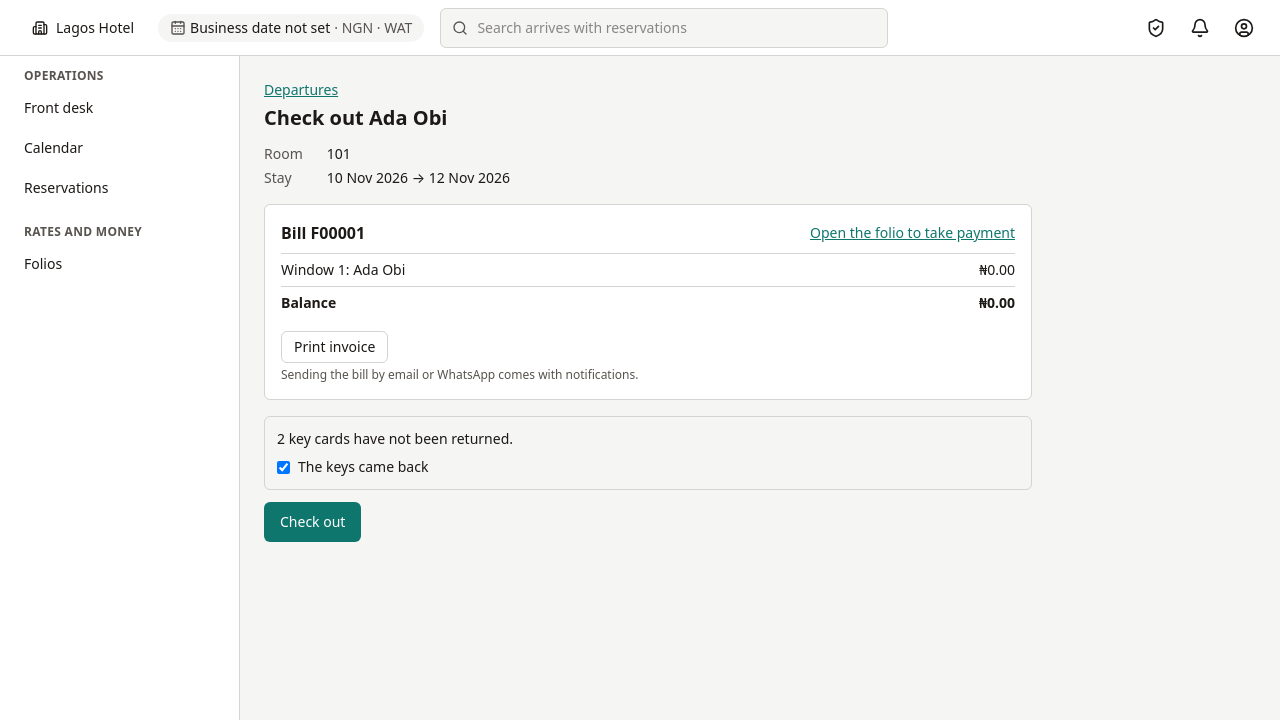
Test: Check-out (S12) › shows the bill, warns about keys, and checks out with the stay’s version
This screenshot has width=1280, height=720.
expect the heading "Check out Ada Obi" is shown: met, box x1=264 y1=104 x2=447 y2=131
expect the table named "Balance per window" shows "Window 1: Ada Obi": met, box x1=281 y1=260 x2=405 y2=279
Click the checkbox labelled "The keys came back": (284, 467) x1=277 y1=460 x2=290 y2=474
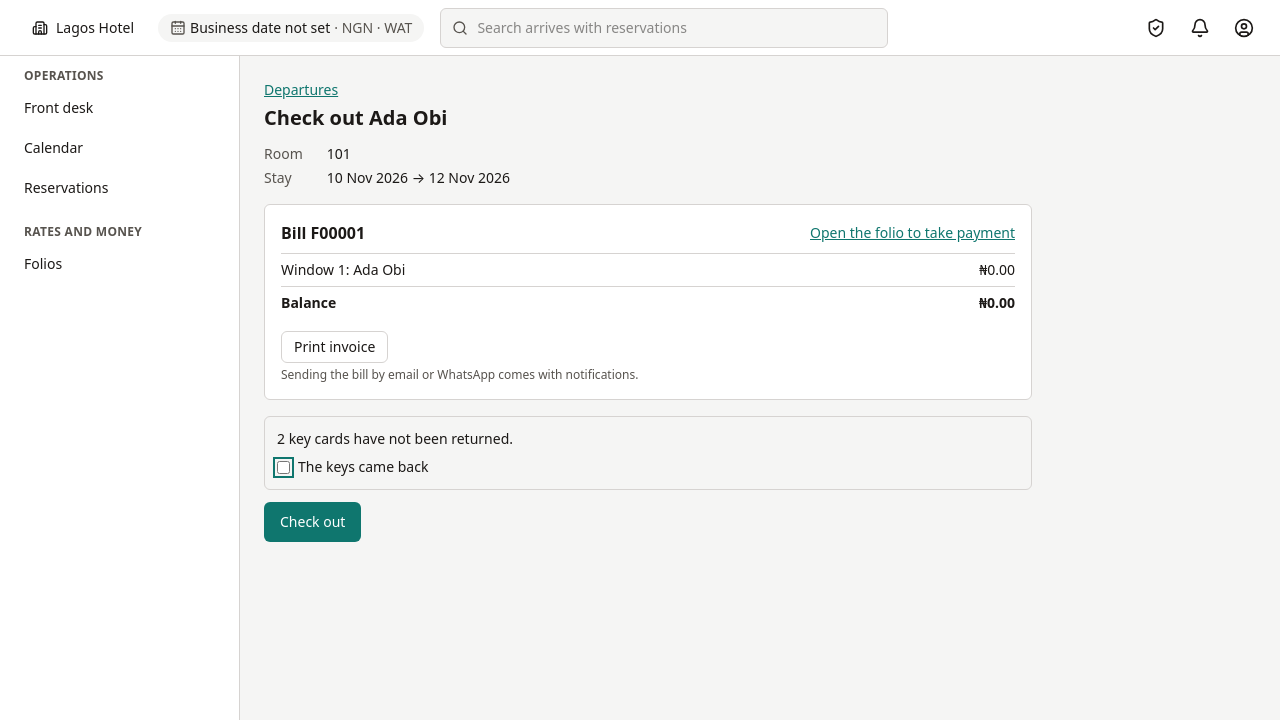
Click the button "Check out": (313, 522) x1=264 y1=502 x2=361 y2=542
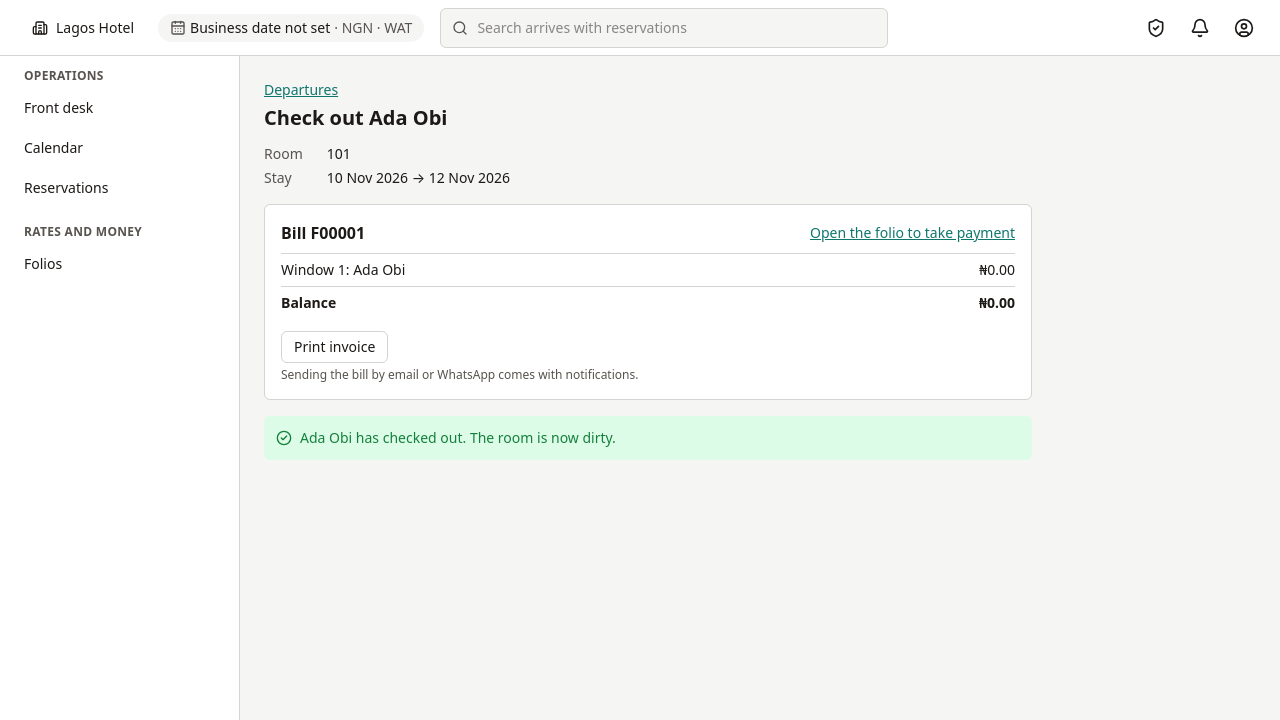
expect the text "Ada Obi has checked out. The room is now dirty." is shown: met, box x1=300 y1=428 x2=616 y2=447
